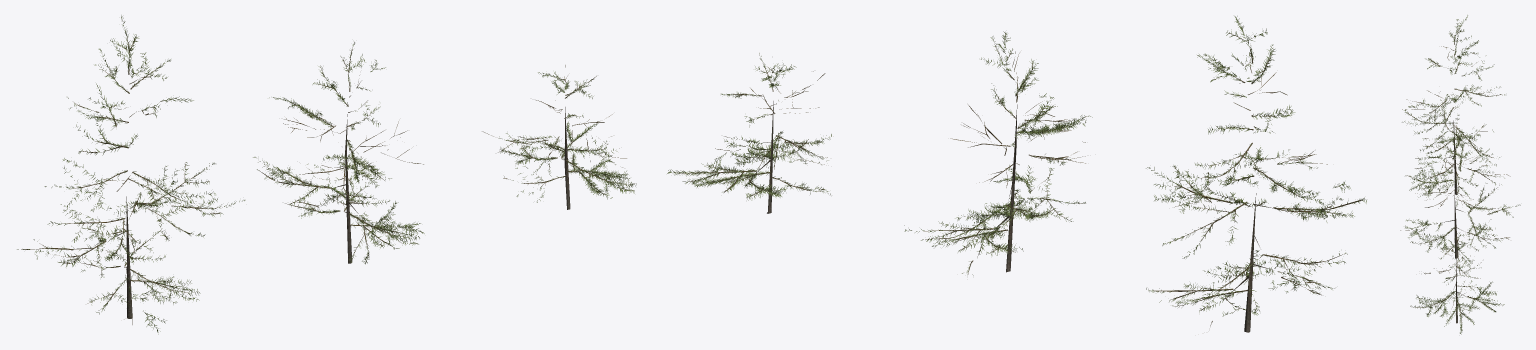
The model's file is fir_sapling.glb.
The picture shows the model from 3 angles, left to right: view 1: azimuth 30°, elevation 25°; view 2: azimuth 150°, elevation 25°; view 3: azimuth 270°, elevation 25°; orthographic projection. The views are drawn at different scales.
Visible parts, largest first — view 1: fir_sapling_a; view 2: fir_sapling_a; view 3: fir_sapling_a.
Boxes of the visible parts, x1,y1,x2,y2 form: fir_sapling_a: [17, 15, 636, 334]; fir_sapling_a: [667, 16, 1366, 332]; fir_sapling_a: [1400, 15, 1520, 334].
Bounding box in the file's own units: 2.74 × 1.3 × 0.8072.
2 materials, 2 textured.
